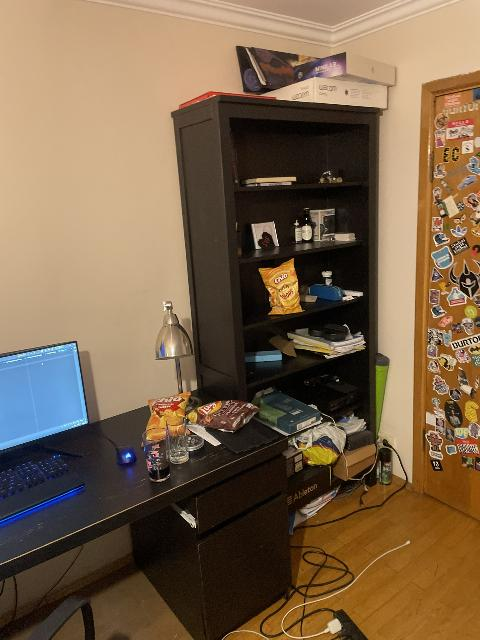Chio Cascaval 125g: (145, 392, 192, 440)
Chio Hula Hoops Cheese 70g: (258, 258, 305, 314)
Lays Beef Grilled Ribs 125g: (194, 399, 254, 431)
